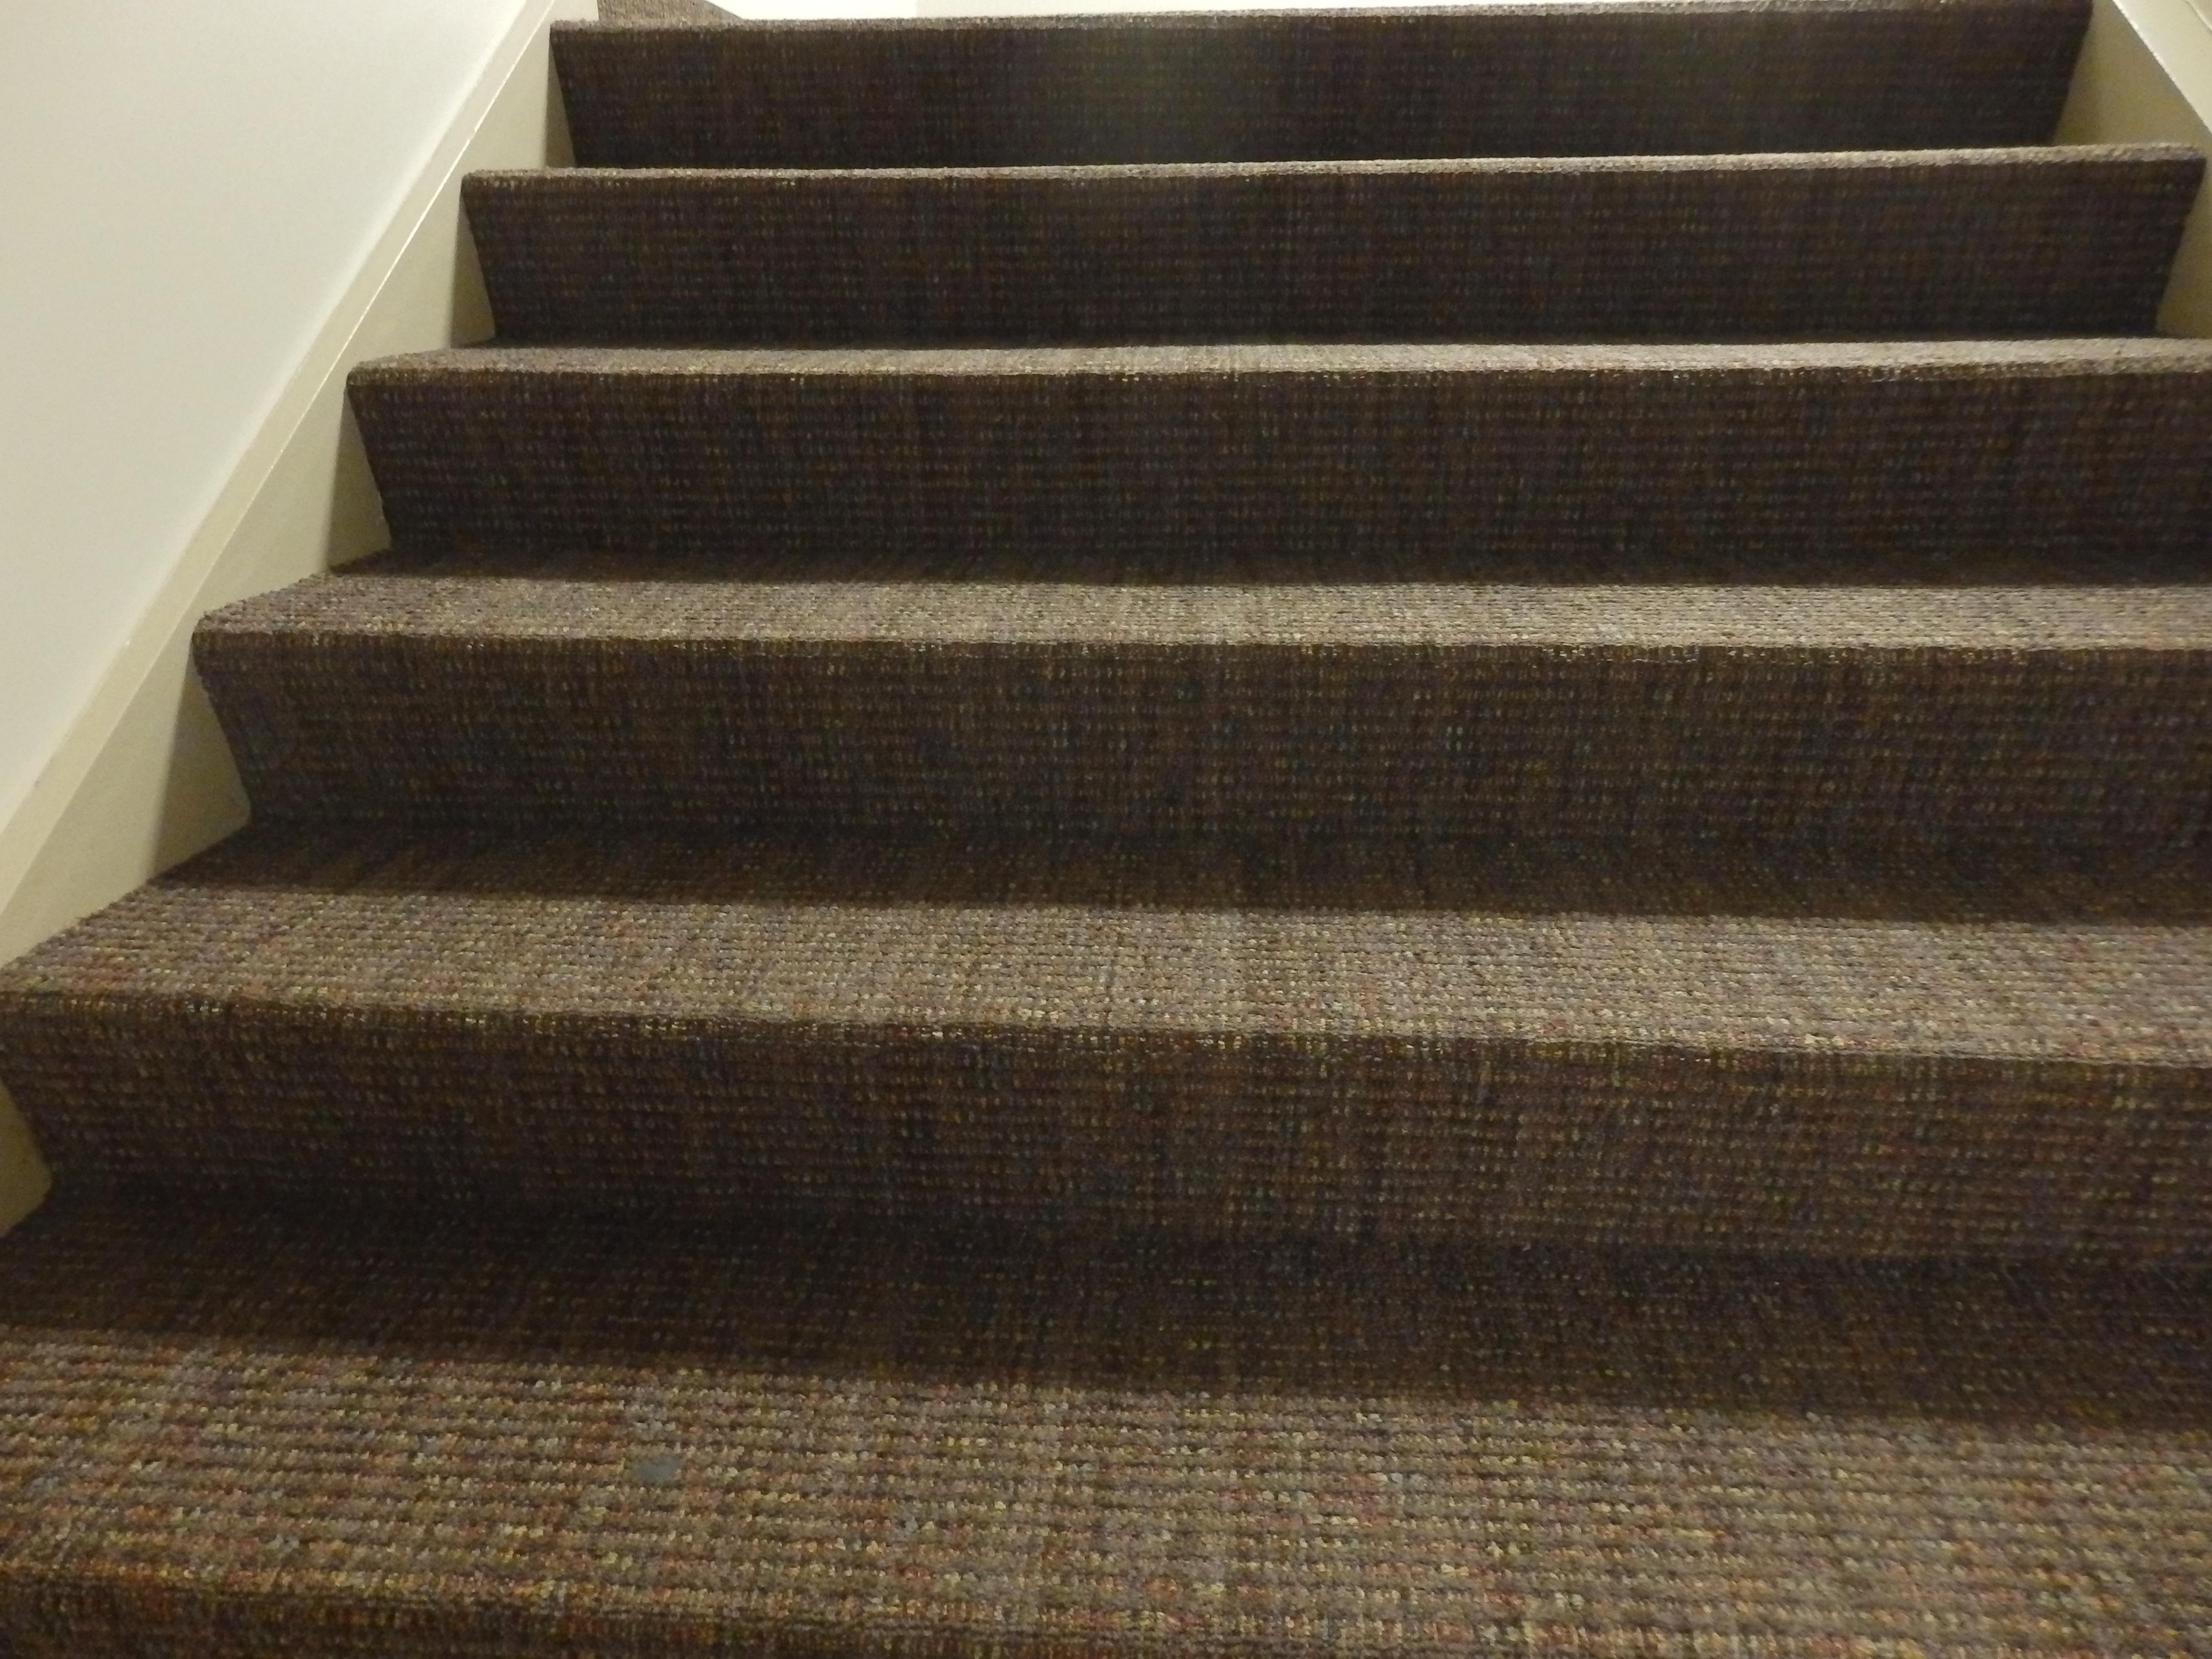stairs_up: (78, 23, 2186, 1586)
